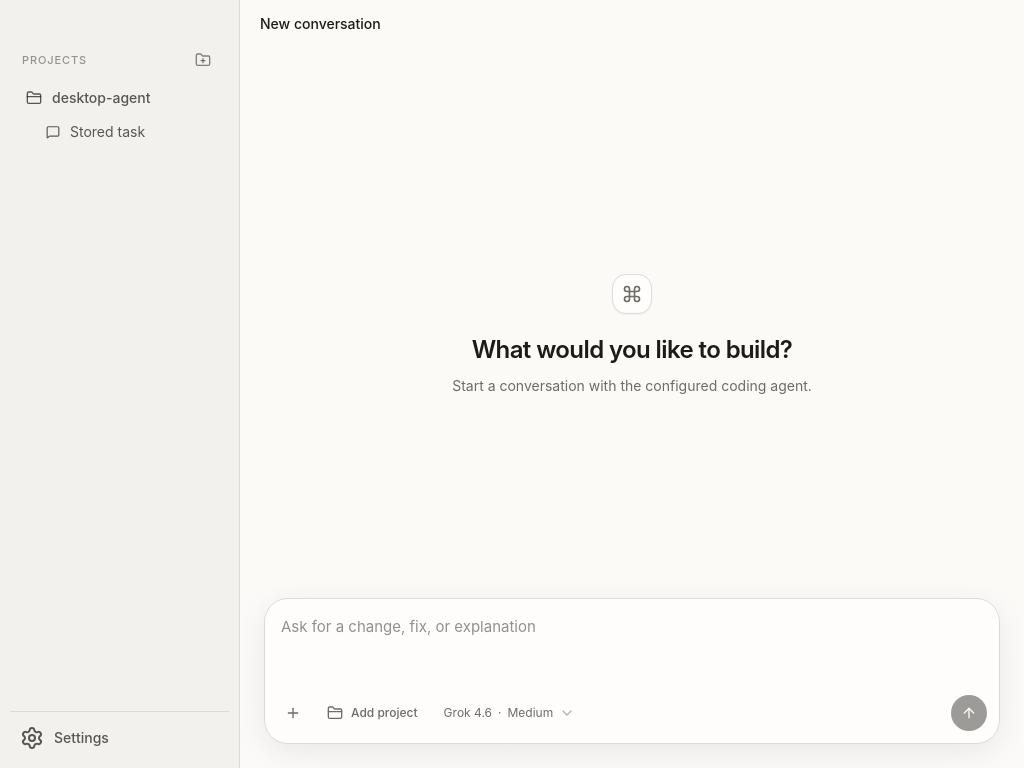
Scenario: App › lists and opens a recent Pi-backed task
Click the button "Stored task": (130, 132) [36, 116, 223, 148]
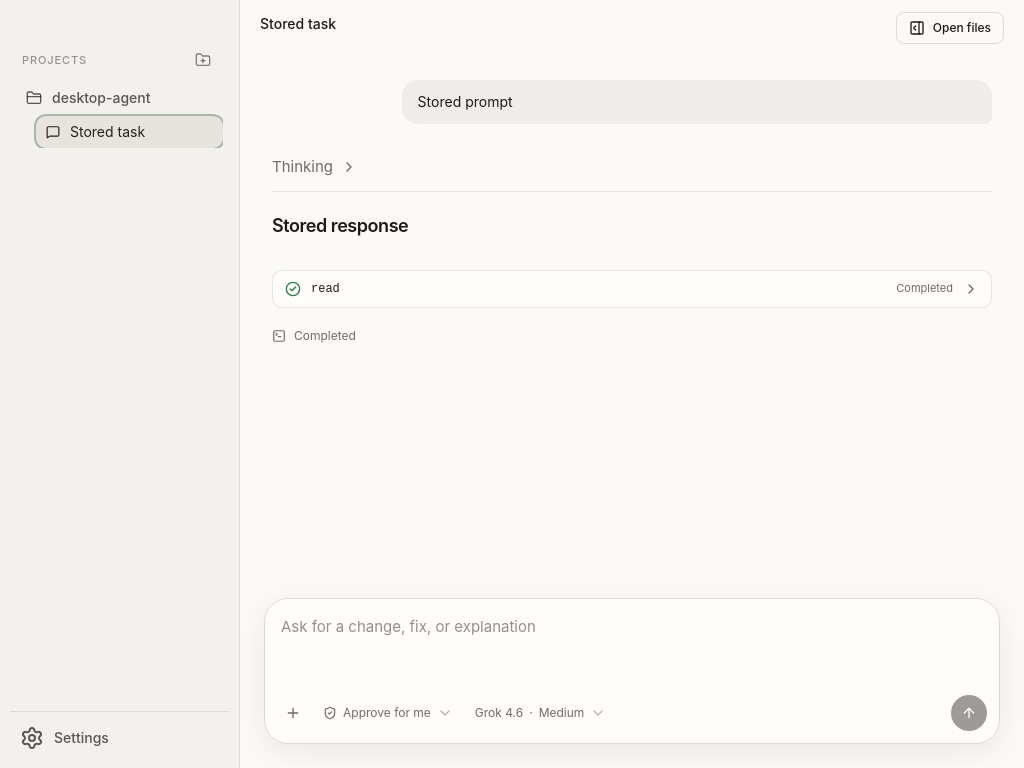
Result: the text "Stored prompt" is shown at [402, 80, 992, 124]
Result: the heading "Stored response" is shown at [272, 214, 408, 236]
Click the heading "Thinking": (302, 166) [272, 144, 992, 192]
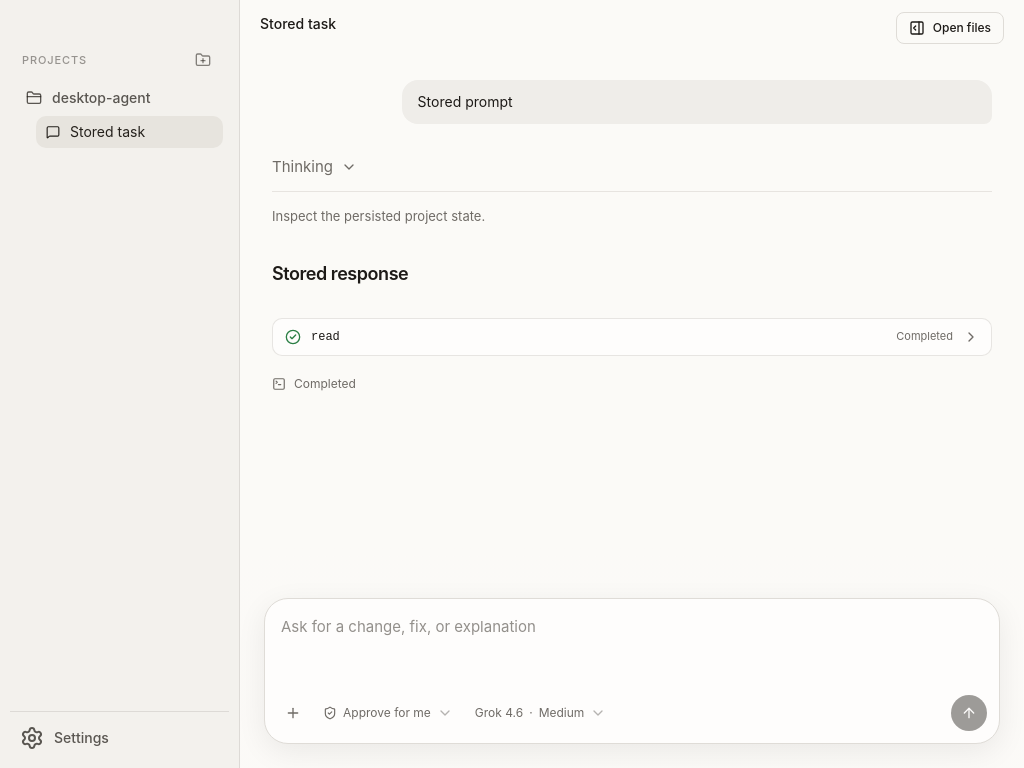
Result: the text "Inspect the persisted project state." is shown at [272, 208, 485, 224]
Click the text "read": (325, 336) [311, 330, 340, 344]
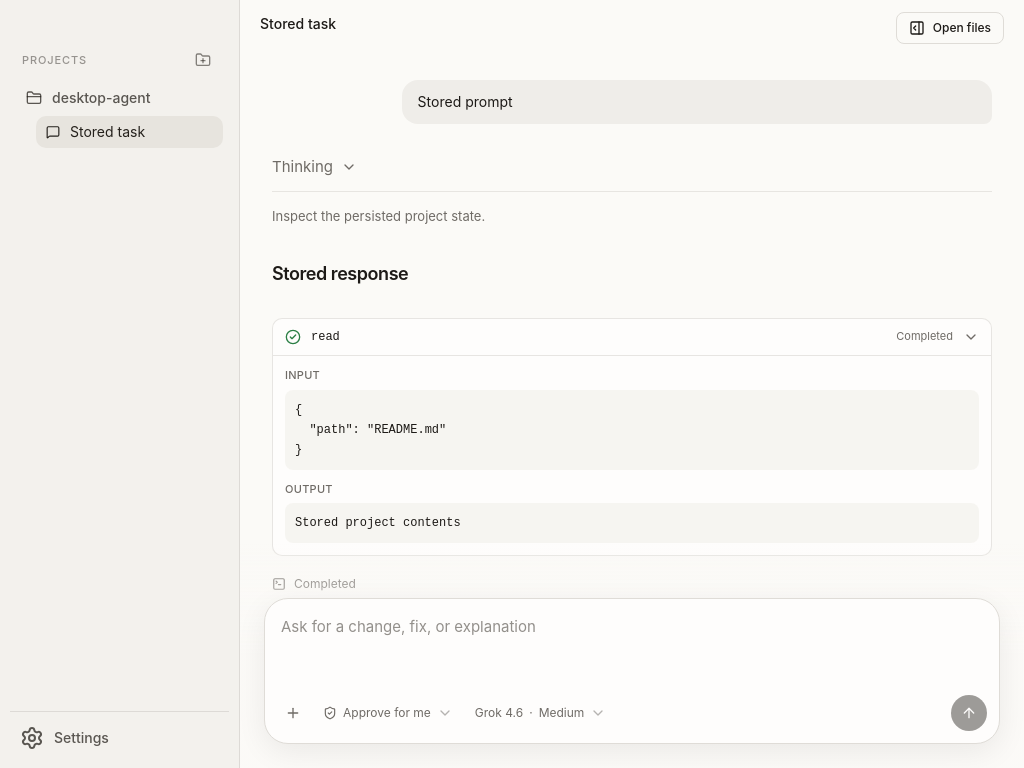
Result: the dropdown named "Access mode" reads "Approve for me" at [315, 697, 461, 729]
Result: the text "{ \"path\": \"README.md\" }" is shown at [285, 389, 979, 469]
Result: the text "Stored project contents" is shown at [285, 503, 979, 543]
